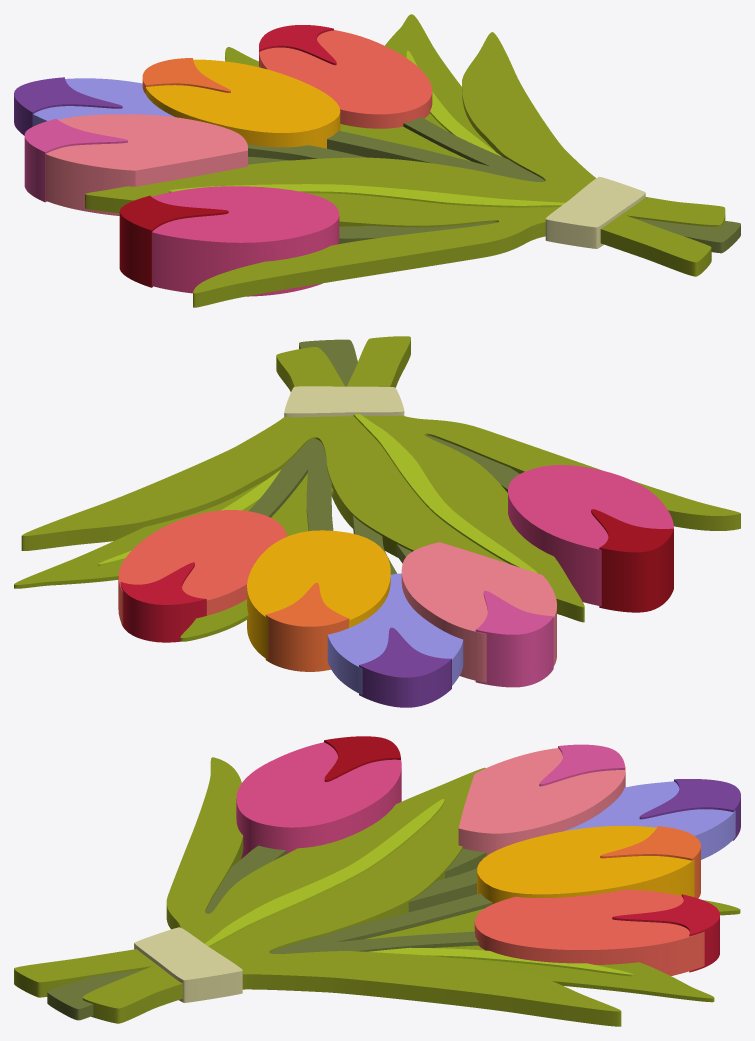
File: emoji_u1f490.glb
3 views of the same model, one above another, from view 1: azimuth 30°, elevation 25°; view 2: azimuth 150°, elevation 25°; view 3: azimuth 270°, elevation 25° (orthographic). The views are drawn at different scales.
Visible parts, largest first — view 1: emoji_u1f490; view 2: emoji_u1f490; view 3: emoji_u1f490.
Part boxes in pixels (x1=…): emoji_u1f490: x1=14, y1=14, x2=740, y2=307; emoji_u1f490: x1=14, y1=336, x2=740, y2=707; emoji_u1f490: x1=14, y1=736, x2=740, y2=1026.
Size of the model in its own units: 0.0288 by 0.0032 by 0.0347.
